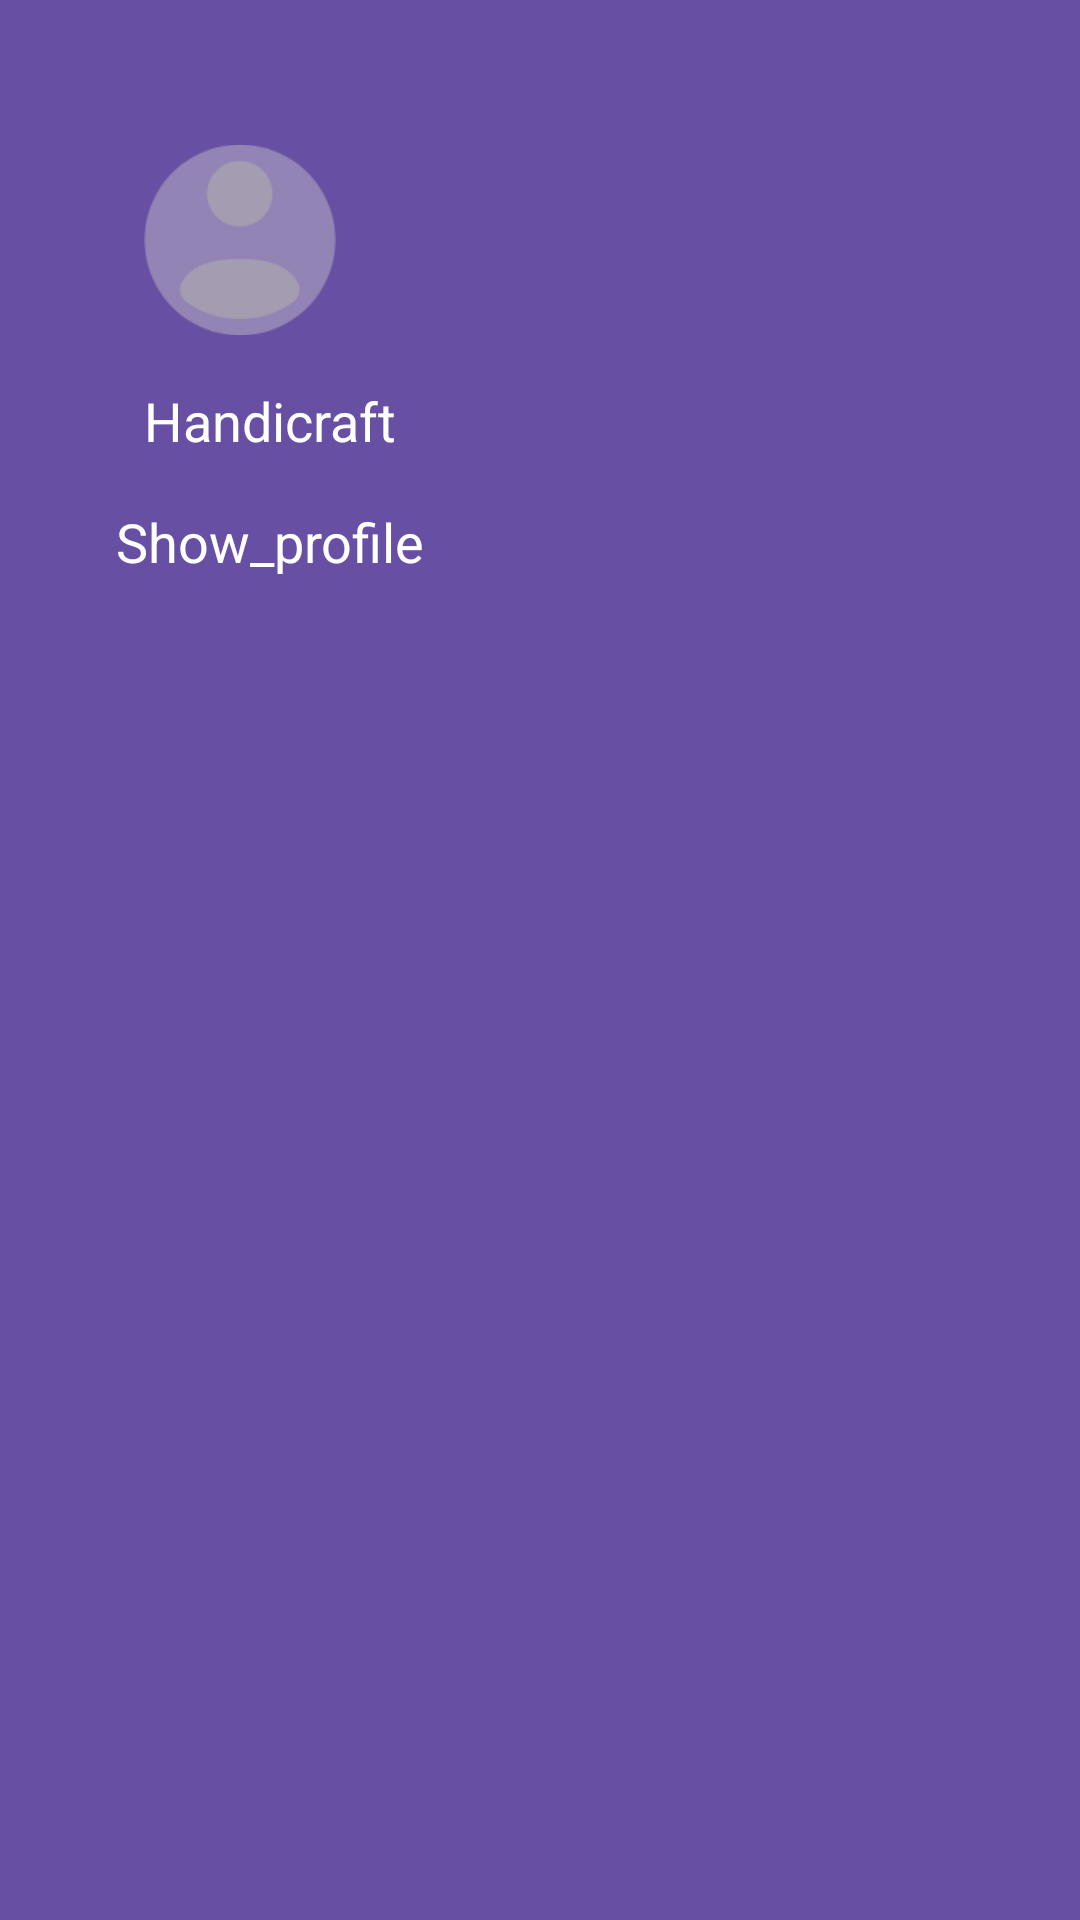

Screen size 1080×1920. Icon name, then its box in pixels as (x1, y1, x2, y2):
user: (144, 145, 336, 335)
